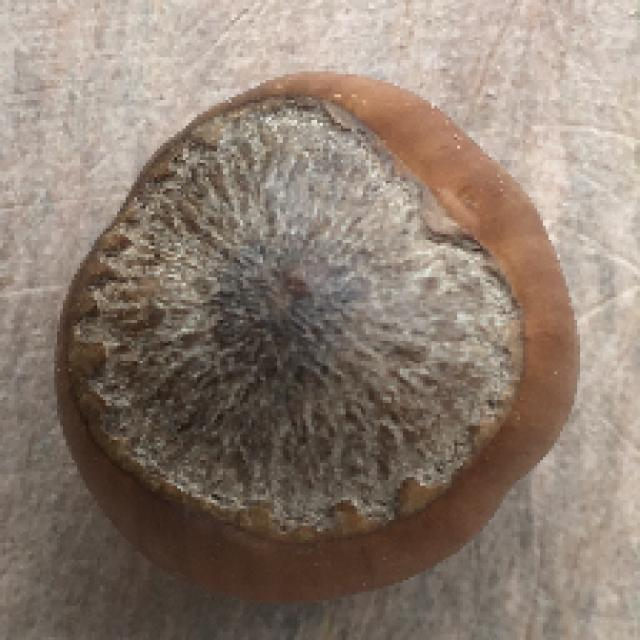qualityHazelnut: (70, 61, 578, 608)
